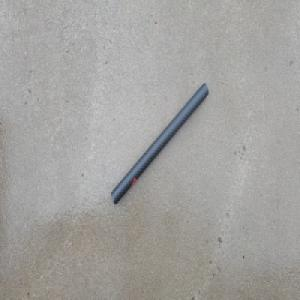LuggagePart: (111, 81, 209, 205)
